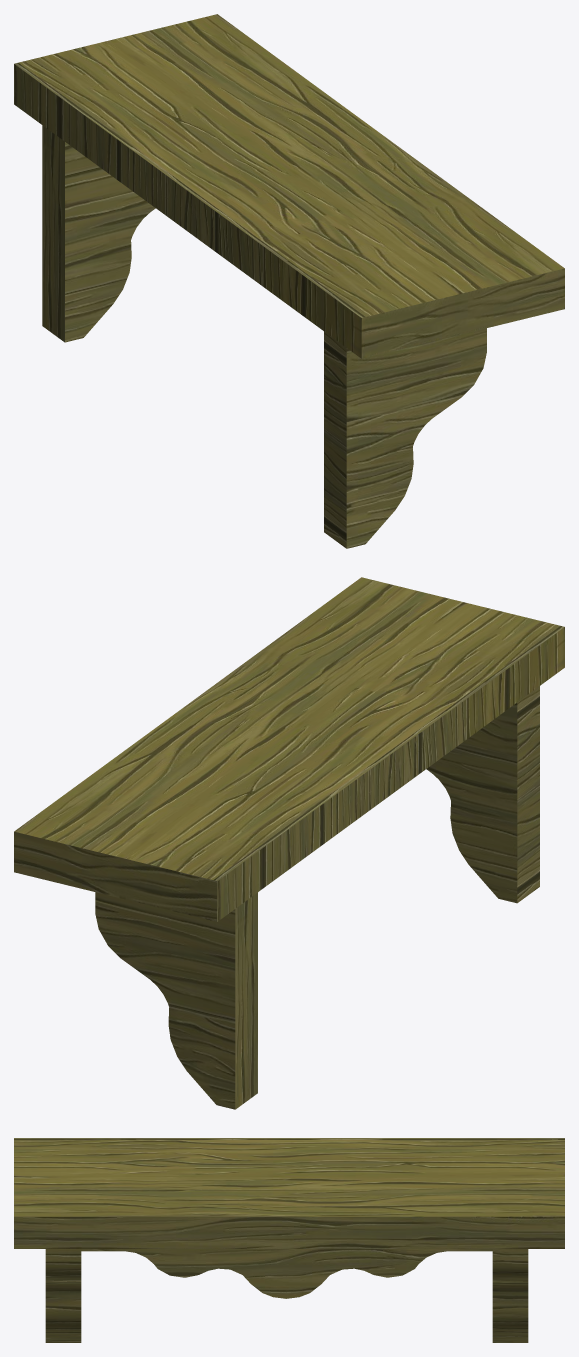
File: Shelf.fbx
3 renders of one model, top to bottom at view 1: azimuth 30°, elevation 25°; view 2: azimuth 150°, elevation 25°; view 3: azimuth 270°, elevation 25°, orthographic. The views are drawn at different scales.
Visible parts, largest first — view 1: Shelf; view 2: Shelf; view 3: Shelf.
Boxes of the visible parts, x1,y1,x2,y2 form: Shelf: (14, 14, 564, 548); Shelf: (14, 577, 564, 1109); Shelf: (14, 1138, 564, 1342).
Bounding box in the file's own units: 12.63 × 14.63 × 37.36.
Materials: 1 (1 with a texture image).
